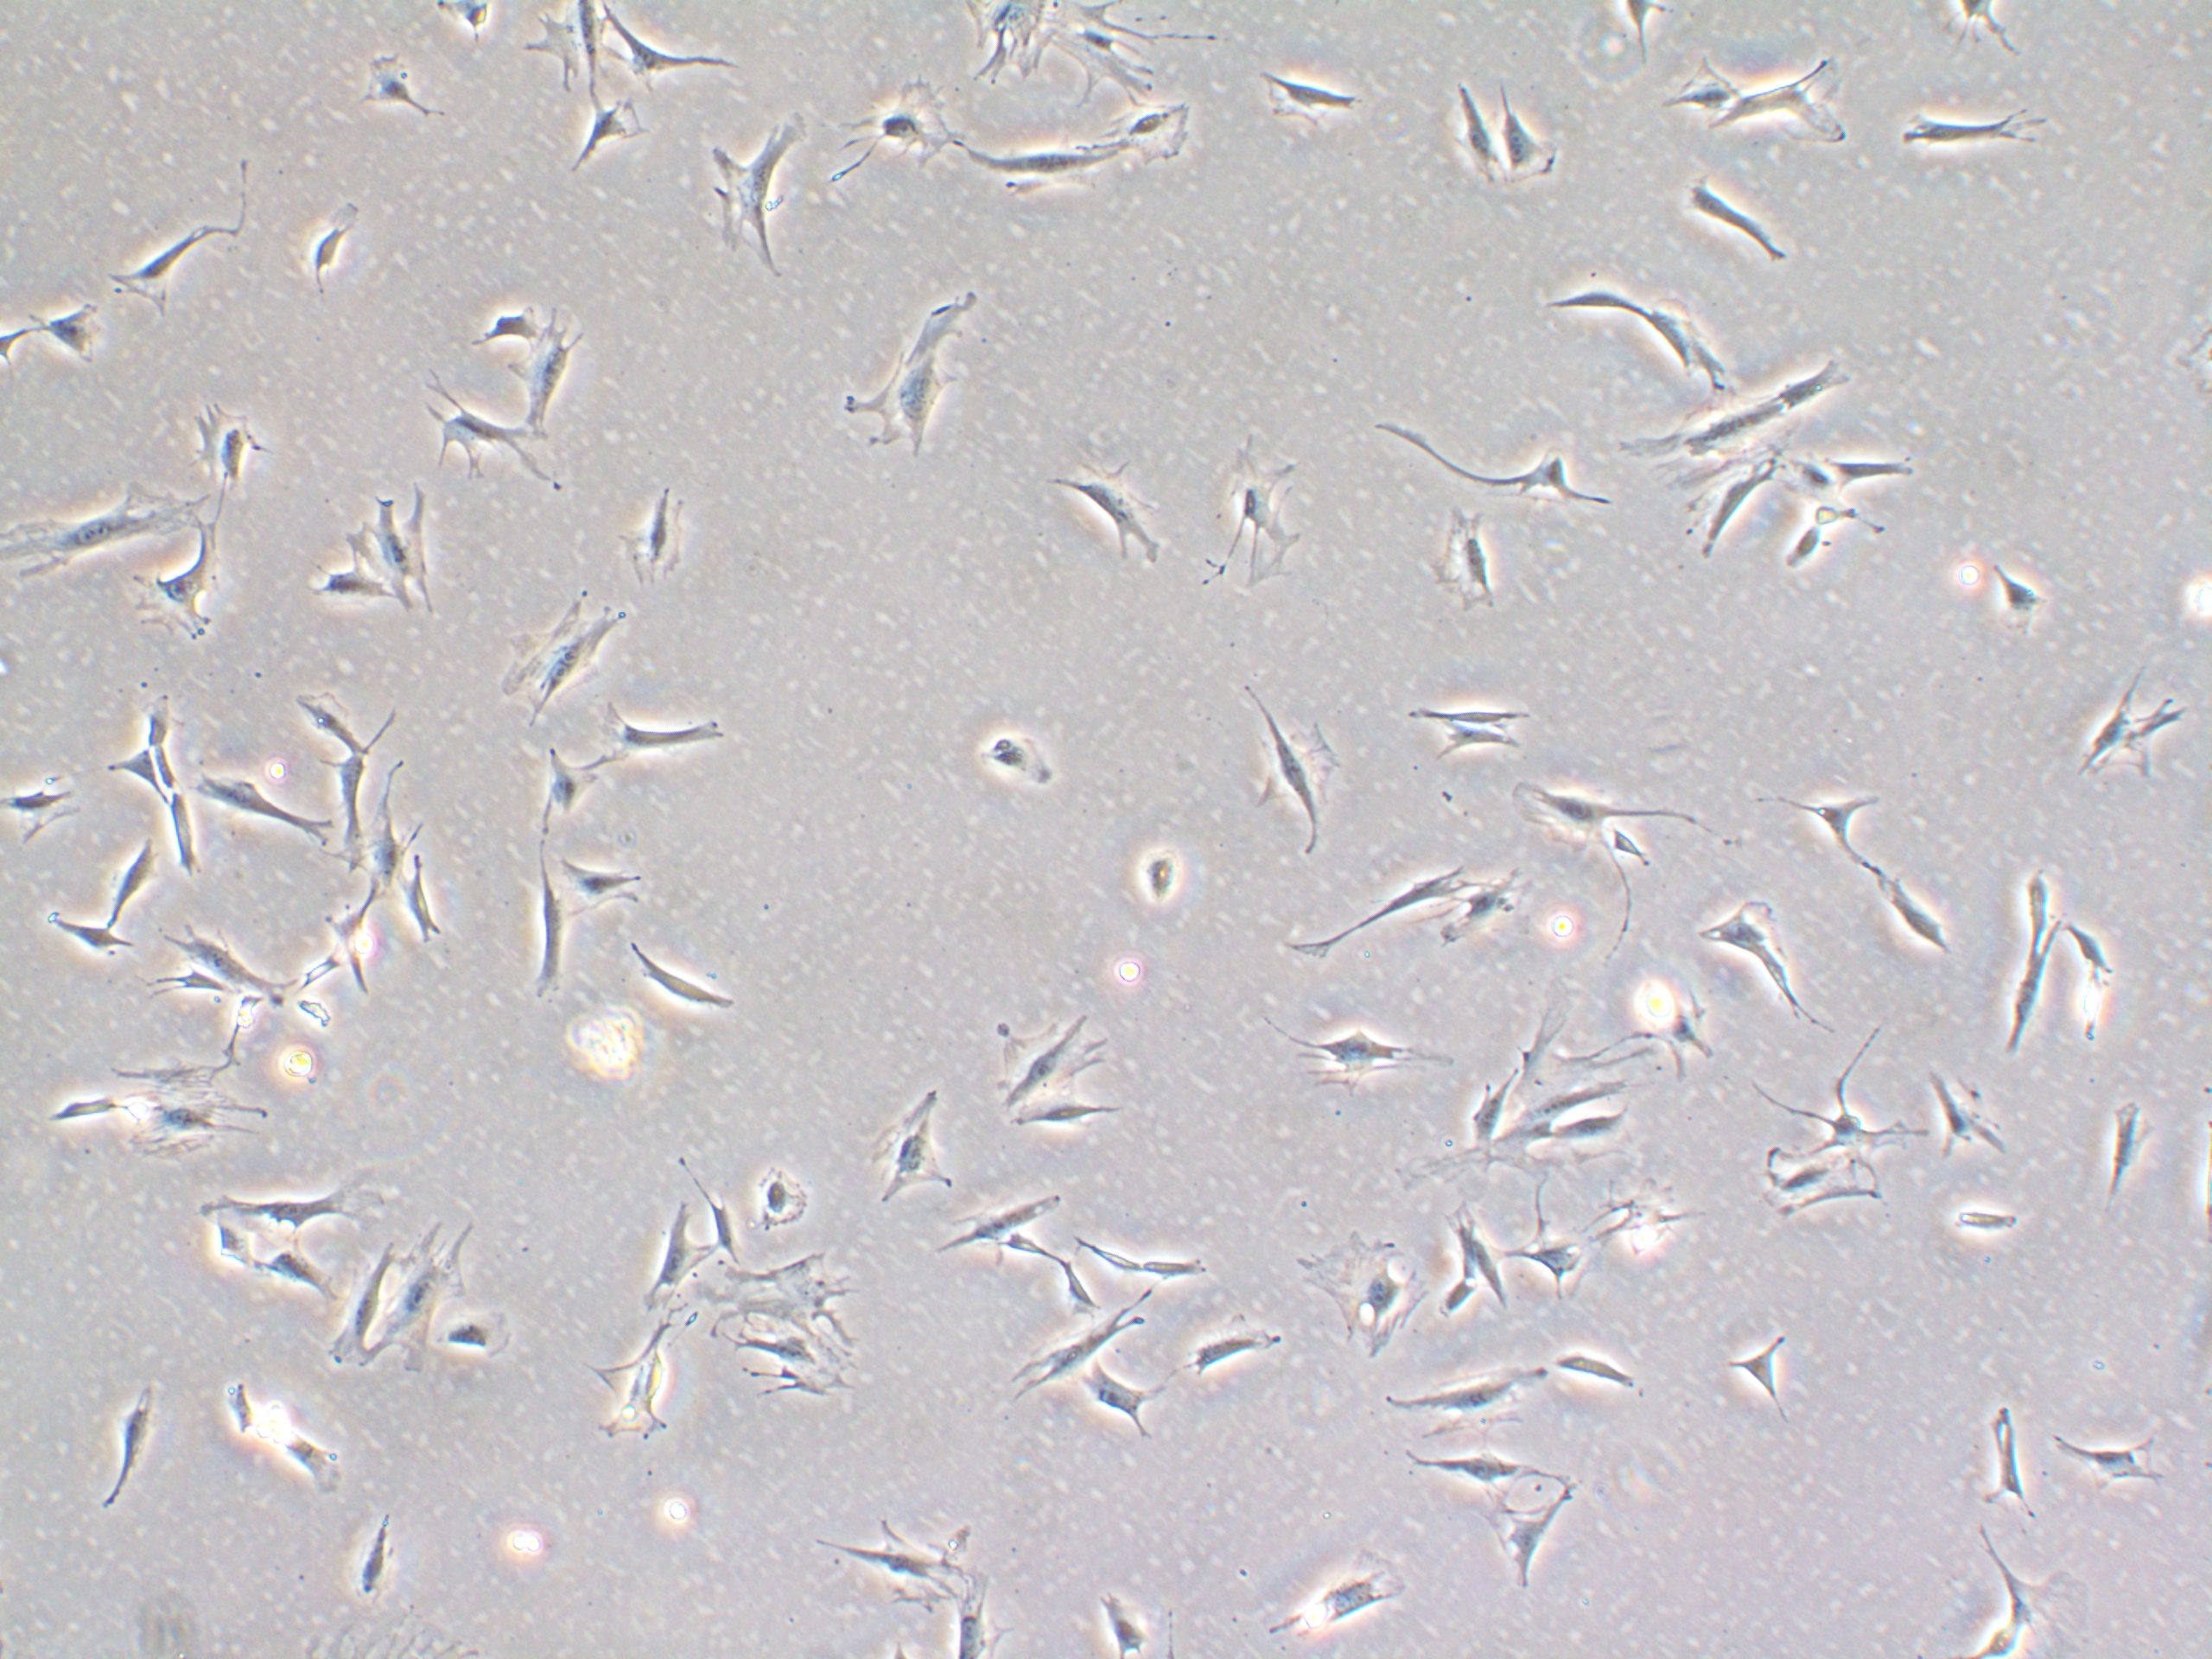Etc: (1050, 1222, 1153, 1288), (1134, 1244, 1231, 1293)
polygonal: (817, 284, 1005, 458), (1012, 432, 1197, 598), (1278, 849, 1494, 978), (1226, 653, 1343, 870), (98, 167, 253, 326), (1684, 887, 1832, 1044), (1228, 1540, 1416, 1659), (691, 105, 808, 284), (1951, 1366, 2055, 1556), (496, 575, 636, 714), (0, 484, 202, 575), (1653, 159, 1799, 282), (343, 481, 460, 626), (2081, 1063, 2168, 1256), (1369, 1352, 1543, 1445), (1752, 763, 1902, 868), (1015, 1286, 1151, 1401), (1878, 98, 2064, 181), (179, 769, 341, 864), (2043, 1392, 2174, 1511), (988, 997, 1122, 1112), (620, 946, 780, 1040), (165, 915, 312, 1018), (413, 399, 549, 509), (822, 1513, 975, 1608), (1480, 1476, 1595, 1603), (582, 1324, 679, 1474), (597, 0, 749, 96), (84, 1347, 158, 1540), (125, 530, 235, 660), (1487, 769, 1635, 864), (1658, 460, 1777, 577), (206, 1164, 401, 1234), (1874, 871, 1996, 983), (2001, 890, 2076, 1072), (294, 183, 387, 329), (1709, 1316, 1813, 1441), (495, 307, 585, 450), (1393, 673, 1521, 774), (1385, 1439, 1568, 1509), (1541, 1112, 1686, 1199), (1254, 59, 1374, 164), (960, 131, 1134, 202), (2067, 678, 2181, 786), (1911, 1060, 2029, 1162), (1275, 1026, 1449, 1096), (1420, 495, 1508, 629), (941, 1173, 1071, 1263), (993, 1079, 1144, 1155), (1507, 1206, 1615, 1310), (1179, 1286, 1291, 1384), (280, 673, 399, 763), (348, 40, 444, 152), (554, 843, 667, 938), (322, 1244, 406, 1371), (596, 694, 749, 762), (1428, 1201, 1526, 1307), (338, 1495, 408, 1642), (1430, 80, 1515, 199), (1076, 1371, 1179, 1469), (1477, 439, 1616, 511), (1440, 864, 1552, 951), (1496, 77, 1583, 186), (641, 1190, 716, 1314), (1639, 288, 1735, 383), (629, 472, 704, 594), (404, 847, 467, 992), (1461, 1054, 1519, 1209), (35, 293, 139, 375), (312, 744, 378, 871), (1540, 1338, 1656, 1410), (19, 906, 145, 972), (568, 77, 650, 178), (181, 392, 270, 484), (1534, 261, 1646, 331), (1655, 52, 1743, 139), (0, 763, 94, 845), (533, 741, 618, 829), (1980, 549, 2052, 652), (1087, 1579, 1174, 1659), (232, 1253, 352, 1310), (96, 828, 165, 924), (282, 558, 395, 615), (98, 727, 171, 810), (519, 856, 556, 1021), (1831, 444, 1930, 504), (101, 681, 186, 742), (1418, 1277, 1479, 1337)
small-round: (1116, 835, 1198, 936)
spread: (686, 1239, 864, 1429), (91, 1018, 286, 1178), (1623, 361, 1855, 476), (1299, 1220, 1440, 1368), (385, 1209, 489, 1389), (831, 64, 979, 176), (1024, 0, 1174, 99), (840, 1079, 954, 1204)
